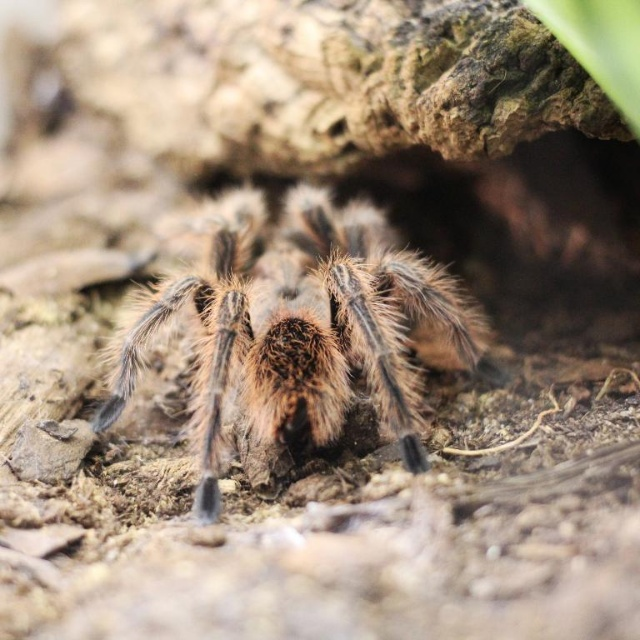Spider: (83, 181, 523, 527)
